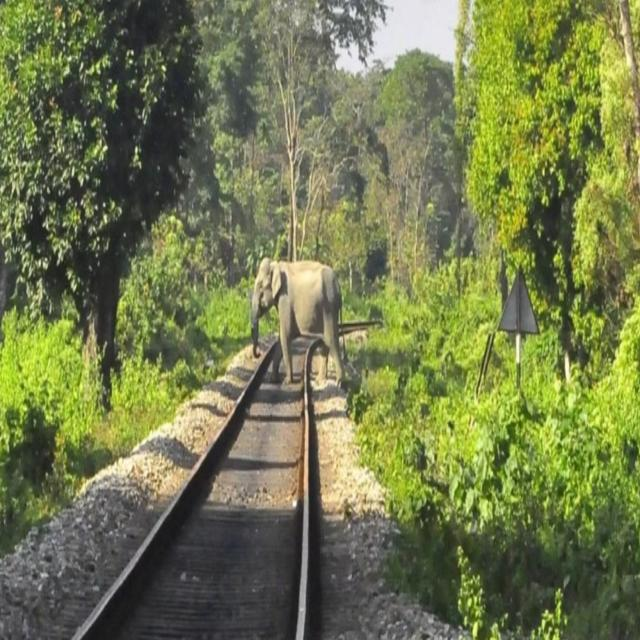Elephant: (245, 238, 360, 391)
